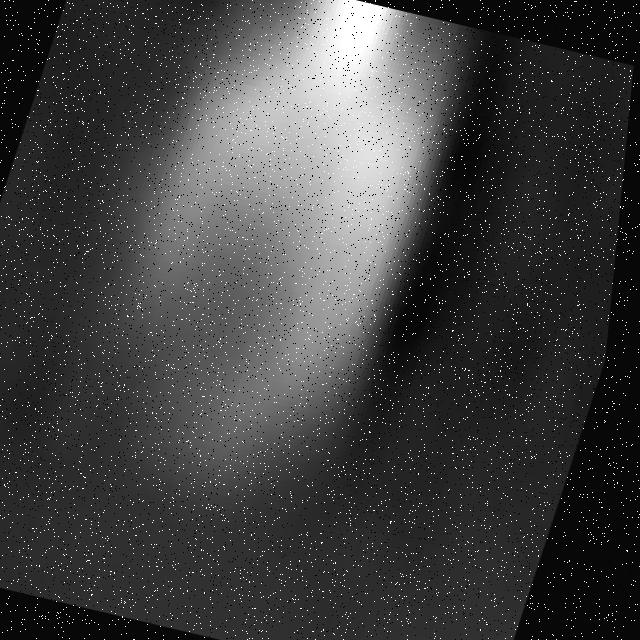person: (65, 1, 486, 526)
